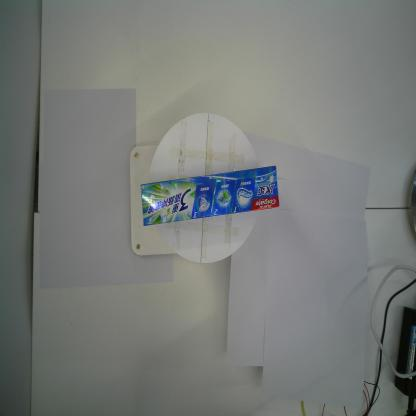Personal Hygiene: (140, 164, 280, 228)
